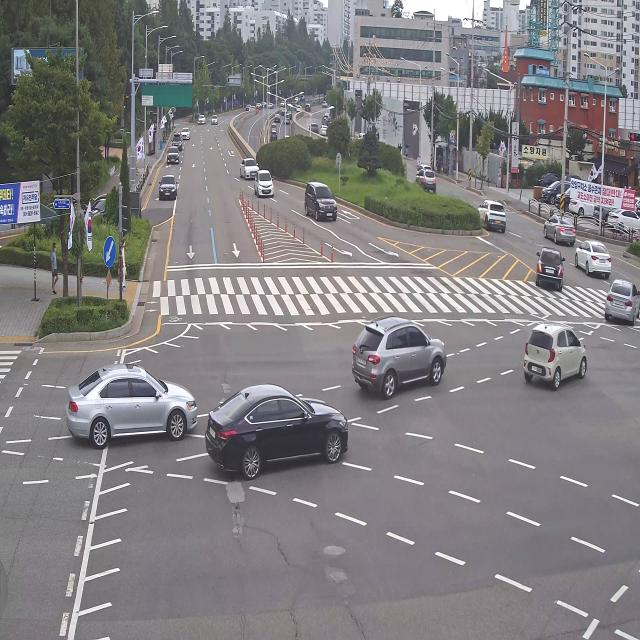Car: (199, 370, 354, 472), (60, 348, 206, 444), (350, 310, 447, 394), (520, 315, 593, 388), (303, 178, 340, 228), (604, 275, 640, 326), (574, 236, 613, 282), (84, 187, 123, 230), (532, 243, 565, 291), (476, 194, 509, 233), (608, 202, 640, 237), (542, 213, 575, 246), (253, 167, 278, 198), (155, 172, 179, 204), (542, 177, 571, 202), (414, 166, 438, 196), (569, 192, 595, 218), (236, 154, 260, 181), (592, 198, 614, 223), (555, 185, 576, 210), (537, 170, 561, 189), (164, 144, 181, 167), (194, 106, 208, 131), (180, 126, 191, 143), (308, 120, 319, 136), (320, 122, 330, 138), (354, 129, 366, 142), (211, 112, 219, 126), (270, 131, 278, 142), (284, 112, 290, 126), (242, 102, 250, 112), (248, 104, 256, 113), (305, 102, 312, 112), (298, 93, 305, 102), (321, 100, 328, 109), (256, 101, 262, 111), (267, 101, 273, 111), (310, 97, 318, 104), (274, 113, 280, 122), (271, 122, 277, 130), (280, 99, 286, 107), (293, 96, 299, 104), (296, 105, 302, 113), (282, 105, 286, 116), (261, 101, 266, 108), (294, 103, 299, 110)
Truck: (286, 106, 294, 120)
